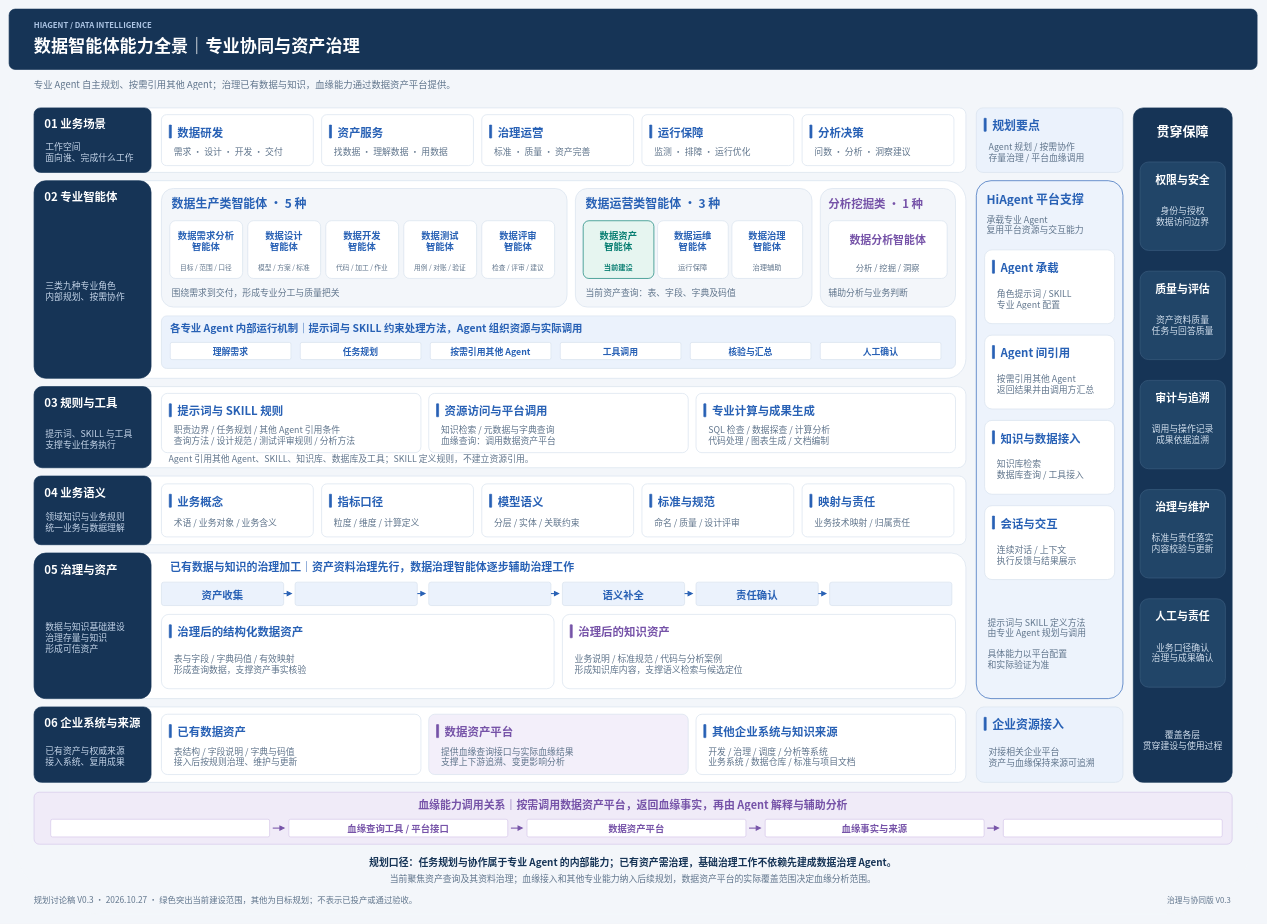
This 1267x924 diagram has some shape labels left out. The shapes that lost their labels are listed below. From the top down, each one's centre as x and y in pixels, then its label:
At (x=356, y=594): "清洗校验".
At (x=489, y=594): "标准映射".
At (x=890, y=594): "发布更新".
At (x=160, y=828): "专业 Agent".
At (x=1112, y=828): "追溯 / 影响分析结果".
